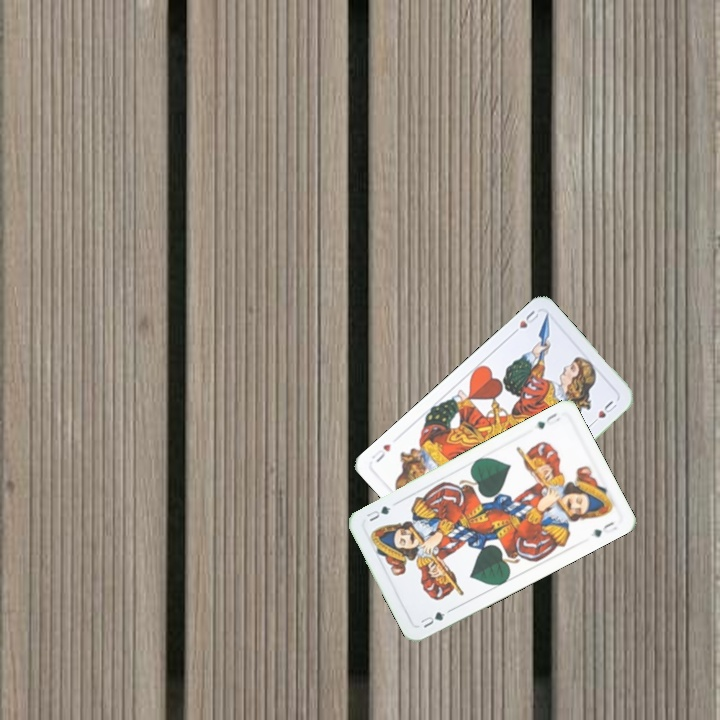GU: (416, 607, 448, 631), (533, 409, 563, 432)
HU: (507, 306, 541, 338)
